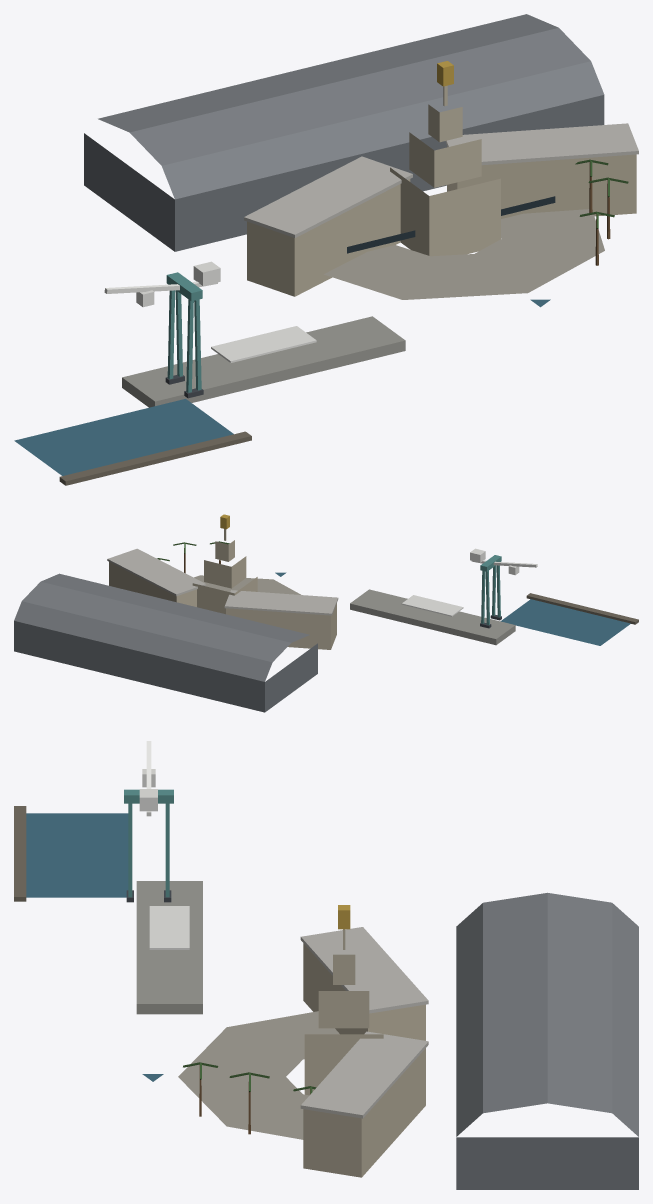
The model's file is mobile-low.glb.
3 views of the same model, one above another, from view 1: azimuth 30°, elevation 25°; view 2: azimuth 150°, elevation 25°; view 3: azimuth 270°, elevation 25° (orthographic). The views are drawn at different scales.
Parts seen in each view (by area): view 1: lm.treasure-island; view 2: lm.treasure-island; view 3: lm.treasure-island.
Part boxes in pixels (box(x1,y1,x2,y2)): lm.treasure-island: box(14, 14, 638, 485); lm.treasure-island: box(14, 514, 638, 712); lm.treasure-island: box(14, 741, 638, 1189).
Size of the model in its own units: 212 by 47 by 150.
